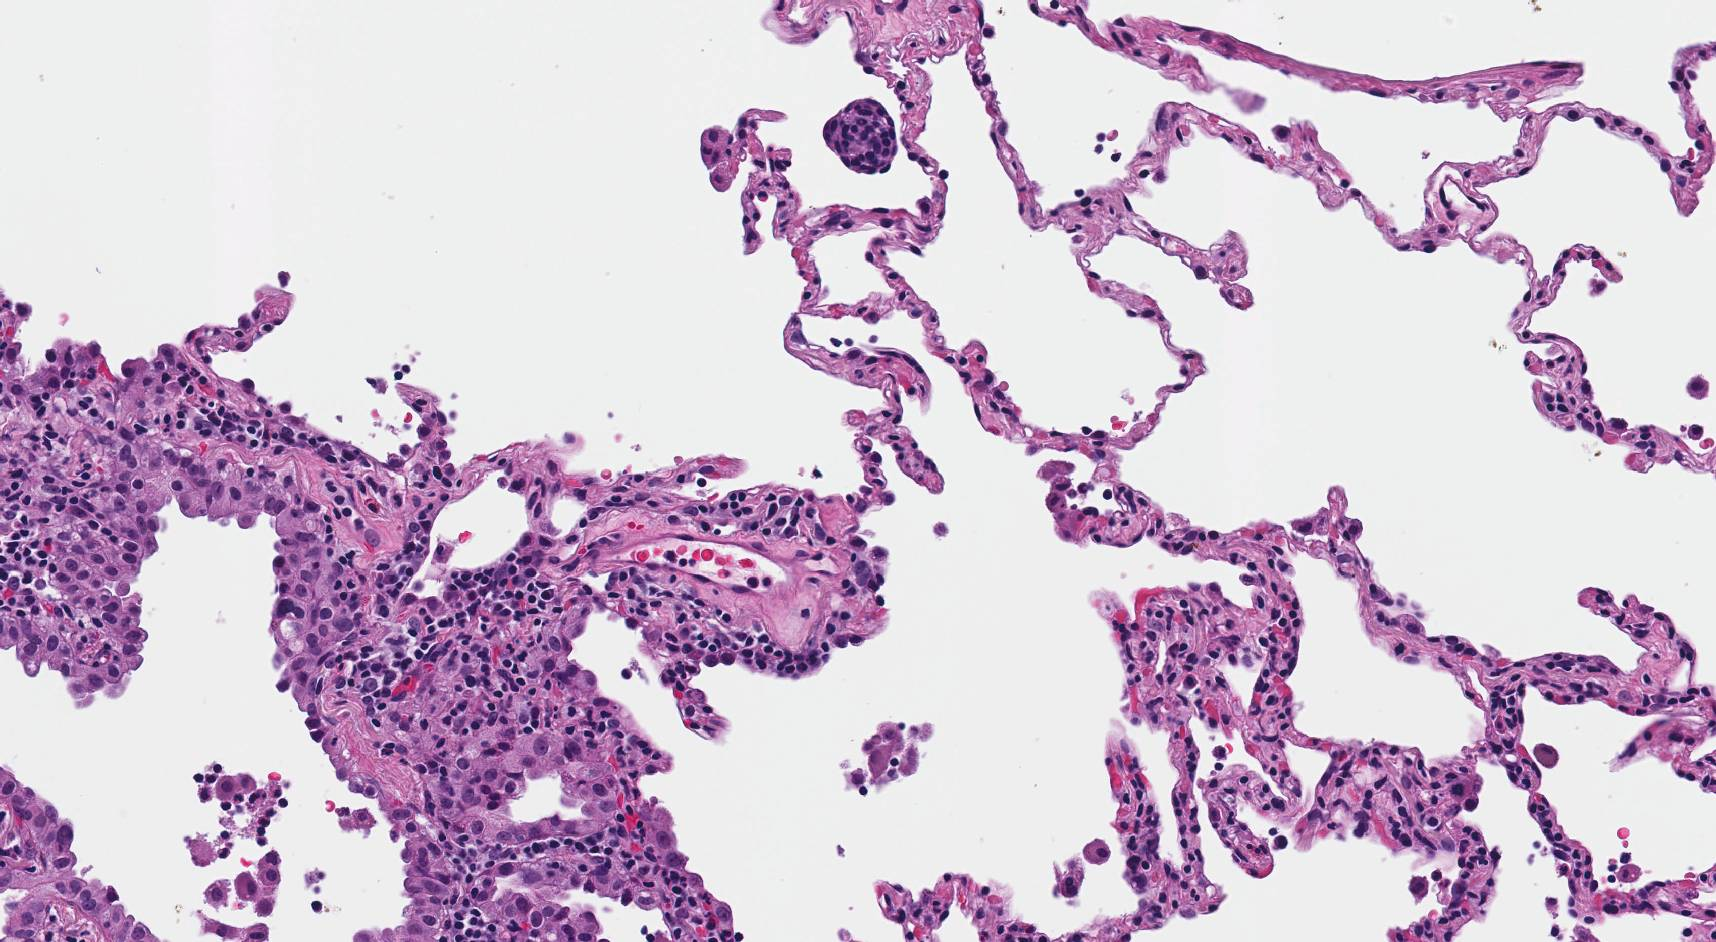stas: (822, 100, 900, 174)
